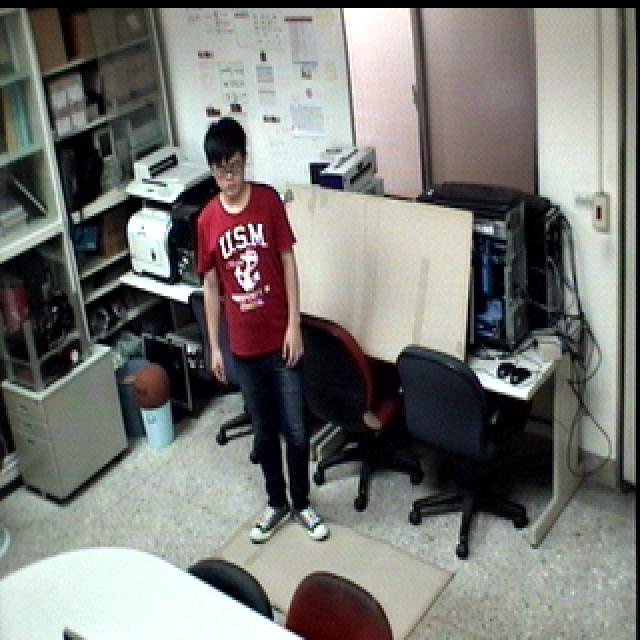stand: (193, 111, 344, 566)
